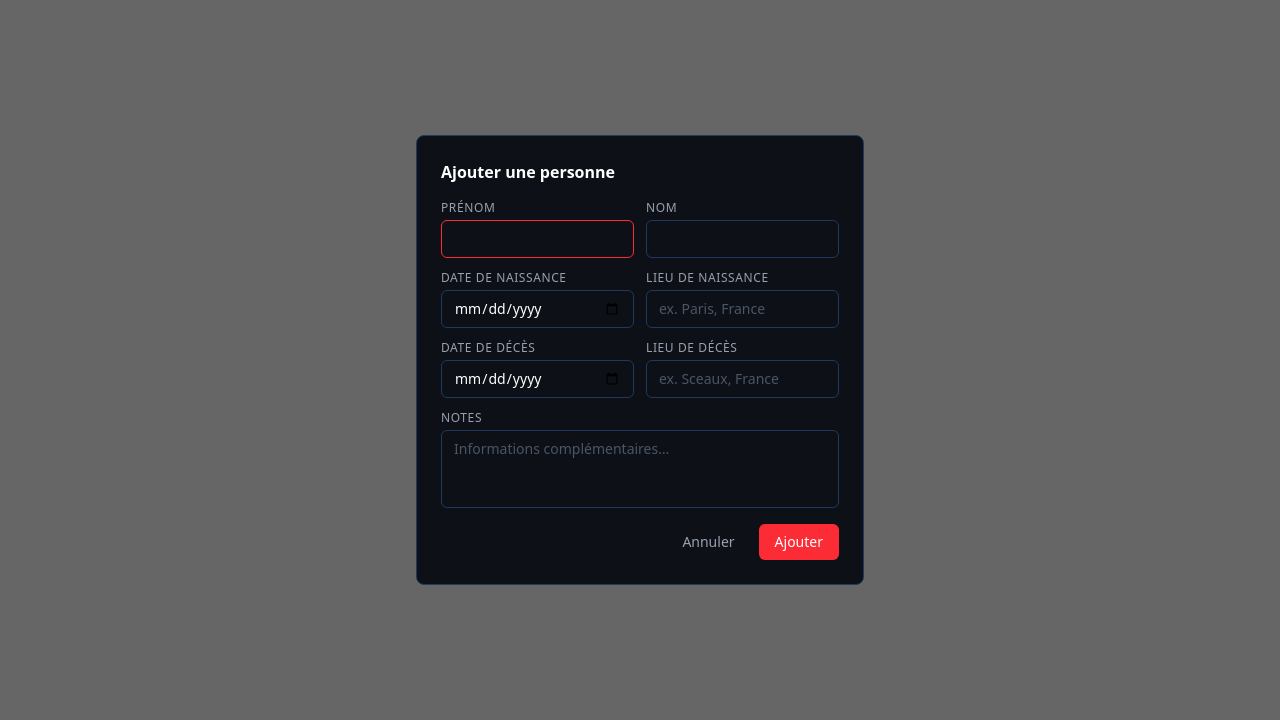
Test: PersonModal — créer puis lier › après création, affiche l'étape « Lier {Nom} à… » avec bouton « Plus tard »
Type "Jean" into the field labelled "Prénom" at (538, 239), box [441,220,634,258]
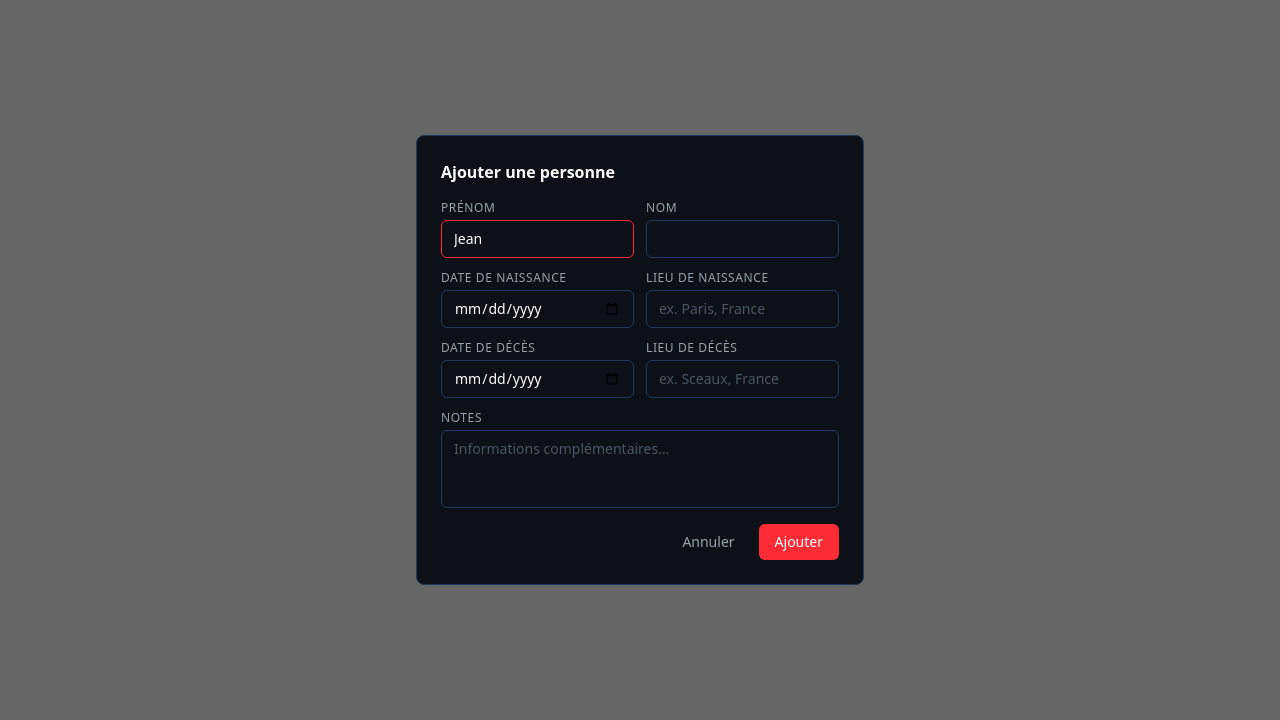
Type "Dupont" into the field labelled "Nom" at (742, 239), box [646,220,839,258]
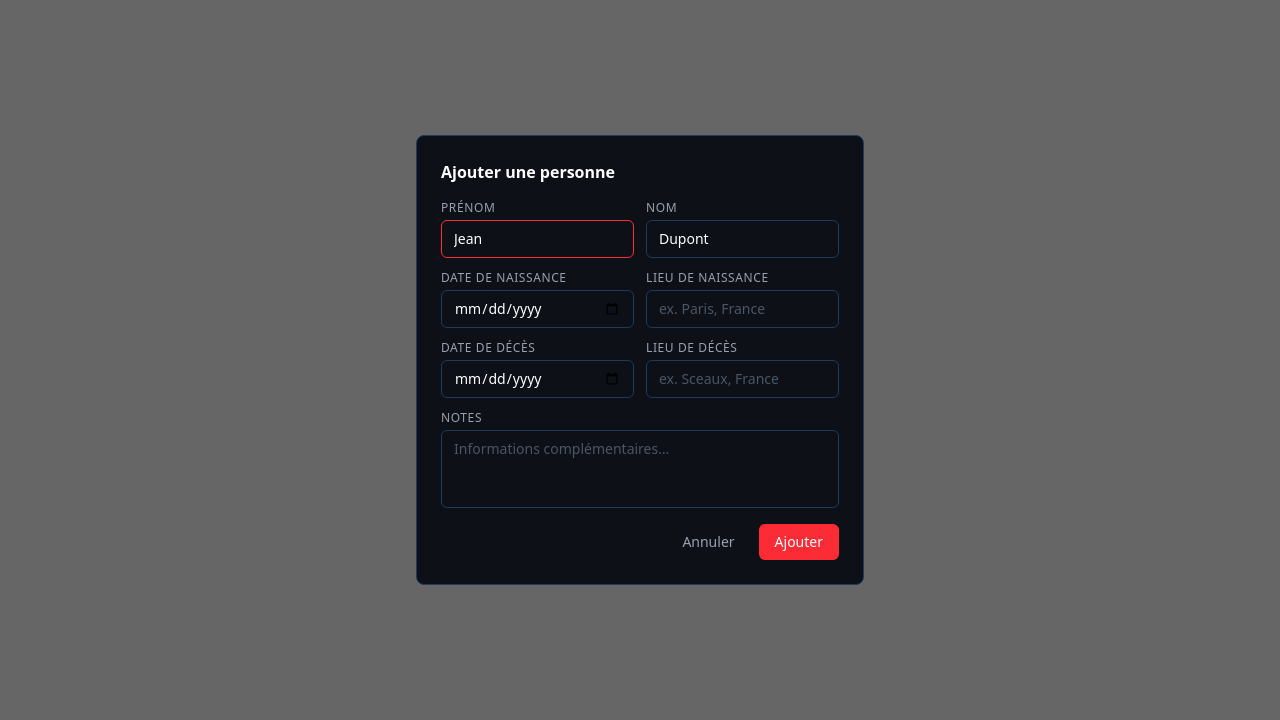
Submit the form named "Ajouter", box [441,200,839,560]
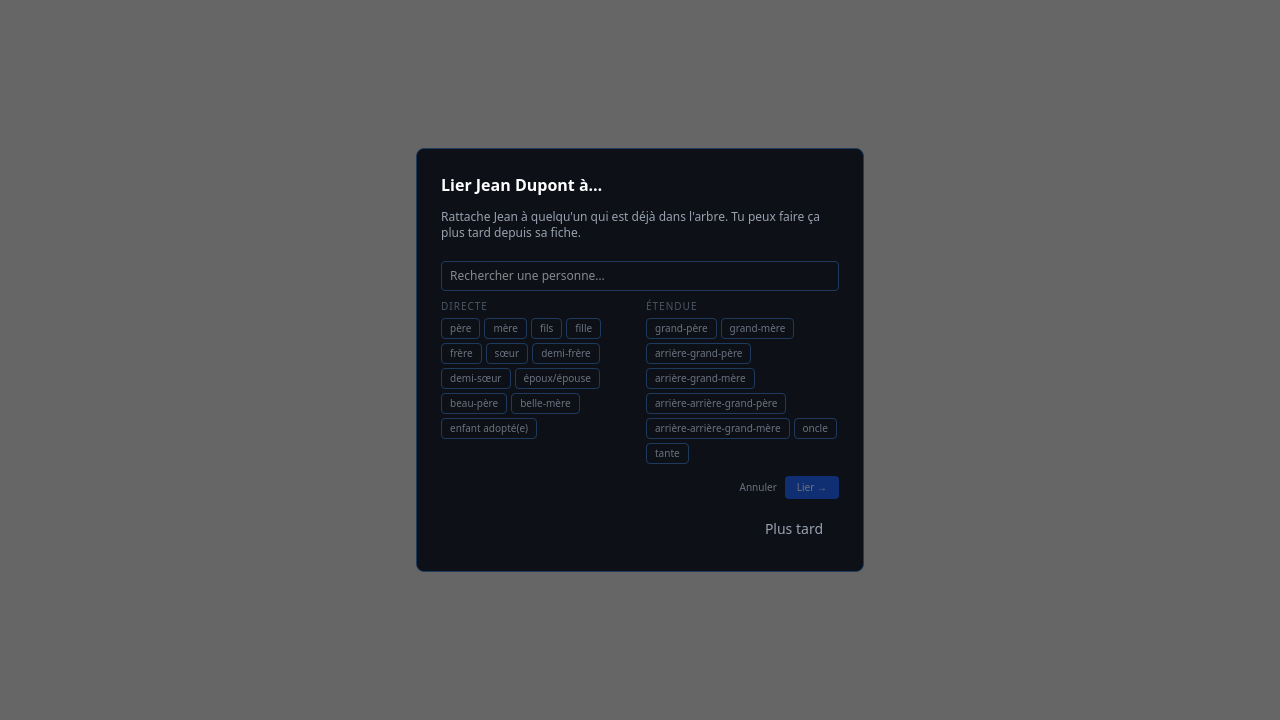
Result: the heading "Lier Jean Dupont à…" is shown at [441,174,602,196]
Result: the button "Plus tard" is shown at [749,511,839,547]
